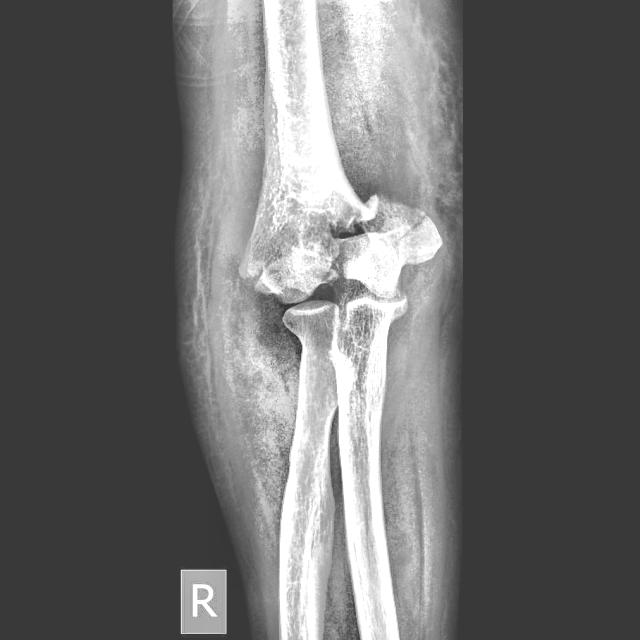line: (398, 214, 426, 242)
messed_up_angle: (240, 189, 377, 287)
